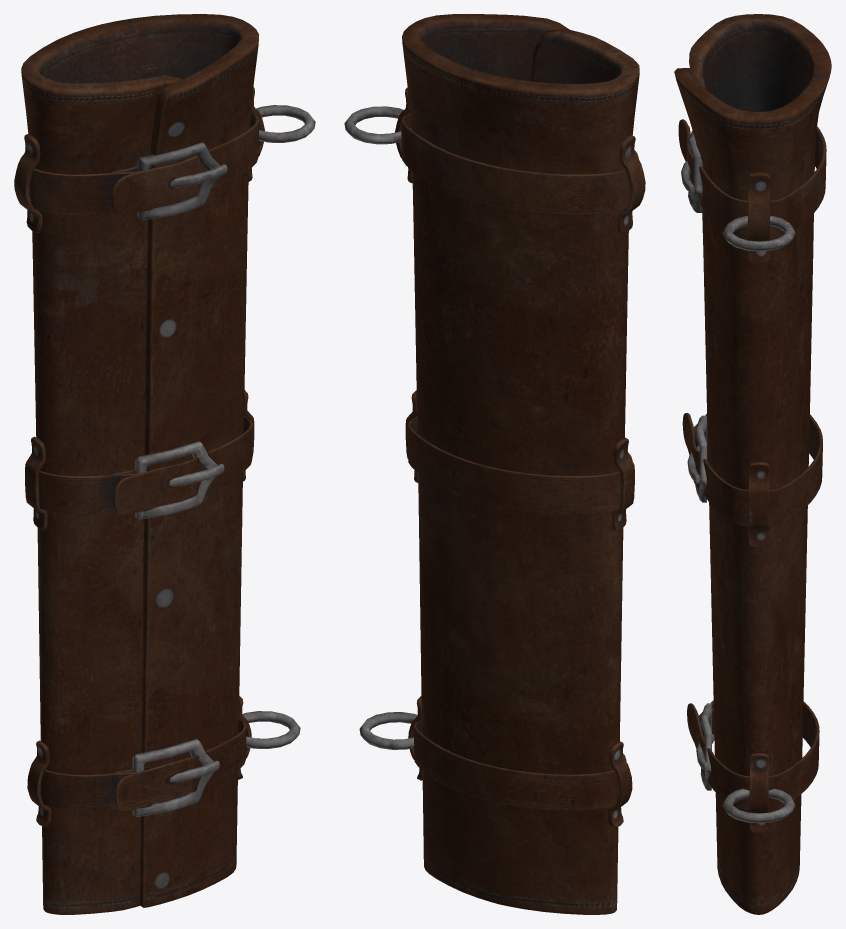
File: SM_SwordScabbard_4.fbx
The picture shows the model from 3 angles, left to right: view 1: azimuth 30°, elevation 25°; view 2: azimuth 150°, elevation 25°; view 3: azimuth 270°, elevation 25°; orthographic projection. The views are drawn at different scales.
Visible parts, largest first — view 1: SM_SwordScabbard_4; view 2: SM_SwordScabbard_4; view 3: SM_SwordScabbard_4.
Part boxes in pixels (x1,y1,x2,y2): SM_SwordScabbard_4: (14, 14, 315, 914); SM_SwordScabbard_4: (344, 14, 645, 914); SM_SwordScabbard_4: (674, 14, 831, 914).
Bounding box in the file's own units: 5.6 × 15.37 × 2.73.
